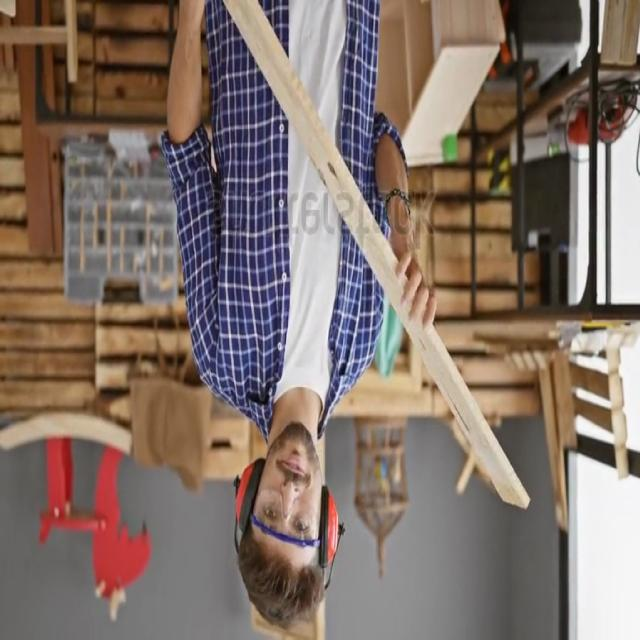Ear-Protection: (228, 453, 264, 535), (316, 489, 349, 573)
Glasses: (245, 502, 318, 546)
